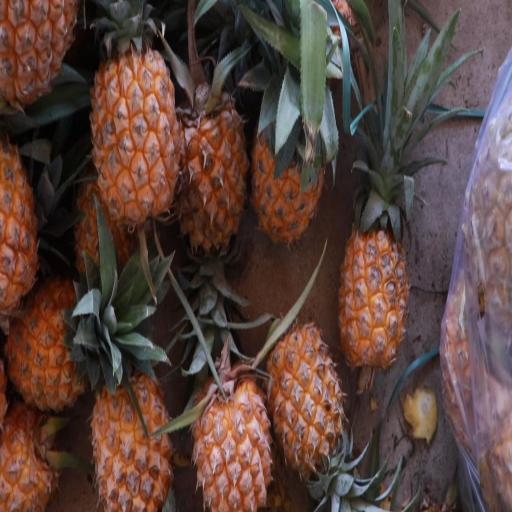Pineapple - v8 v1: (89, 16, 184, 238), (0, 270, 127, 417), (264, 317, 347, 511), (175, 68, 250, 264), (336, 193, 412, 383), (248, 78, 327, 254), (188, 355, 274, 512), (88, 371, 178, 512), (0, 129, 53, 330)
